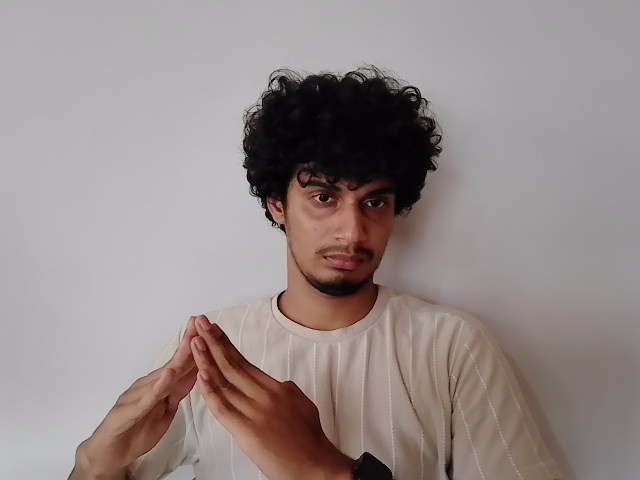home: (64, 312, 336, 480)
